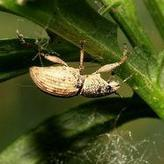weevils: (0, 18, 147, 118)
